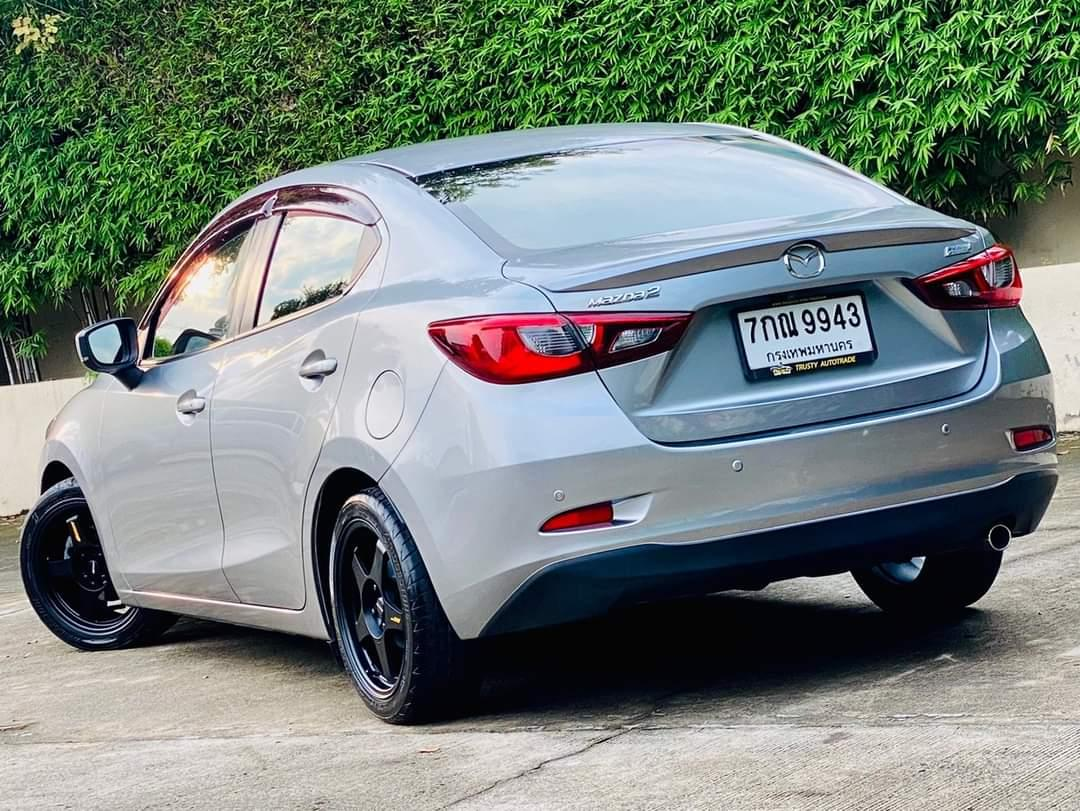license-plate: (728, 284, 882, 386)
